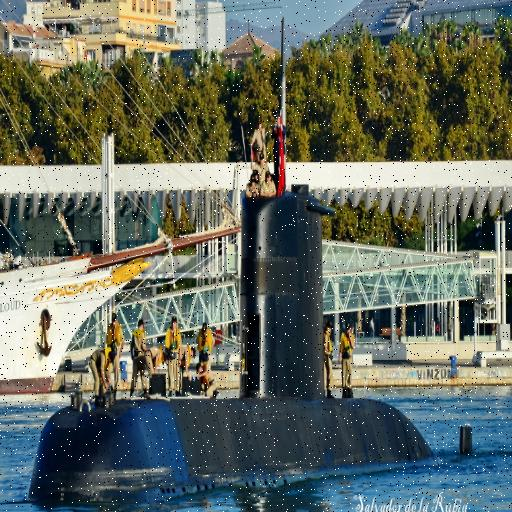submarine: (32, 182, 473, 504)
